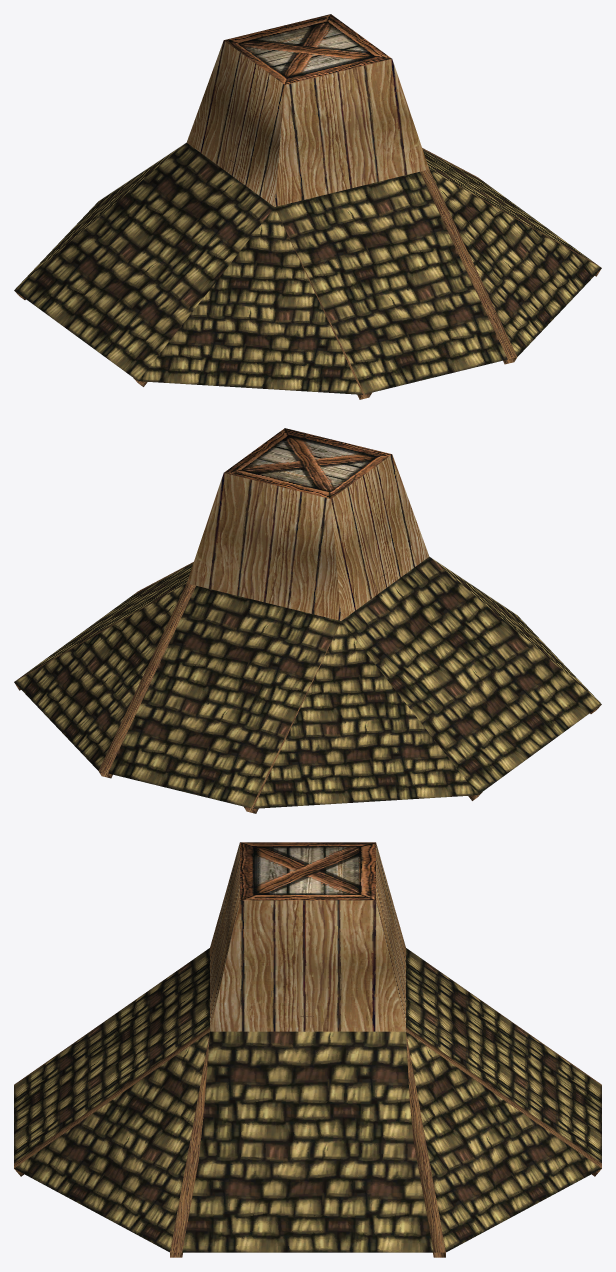
File: LAKETOWN_WAREHOUSE2_PS_WH2_DOMEROOF998__GX.fbx
The picture shows the model from 3 angles, top to bottom: view 1: azimuth 30°, elevation 25°; view 2: azimuth 150°, elevation 25°; view 3: azimuth 270°, elevation 25°; orthographic projection. The views are drawn at different scales.
Visible parts, largest first — view 1: LAKETOWN_WAREHOUSE2_PS_WH2_DOMEROOF998__GX; view 2: LAKETOWN_WAREHOUSE2_PS_WH2_DOMEROOF998__GX; view 3: LAKETOWN_WAREHOUSE2_PS_WH2_DOMEROOF998__GX.
Part boxes in pixels (left/top/right/bottom): LAKETOWN_WAREHOUSE2_PS_WH2_DOMEROOF998__GX: left=14, top=14, right=601, bottom=399; LAKETOWN_WAREHOUSE2_PS_WH2_DOMEROOF998__GX: left=14, top=428, right=601, bottom=813; LAKETOWN_WAREHOUSE2_PS_WH2_DOMEROOF998__GX: left=14, top=842, right=601, bottom=1257.
Size of the model in its own units: 176352 by 86132 by 174108.
Materials: 5 (5 with a texture image).
